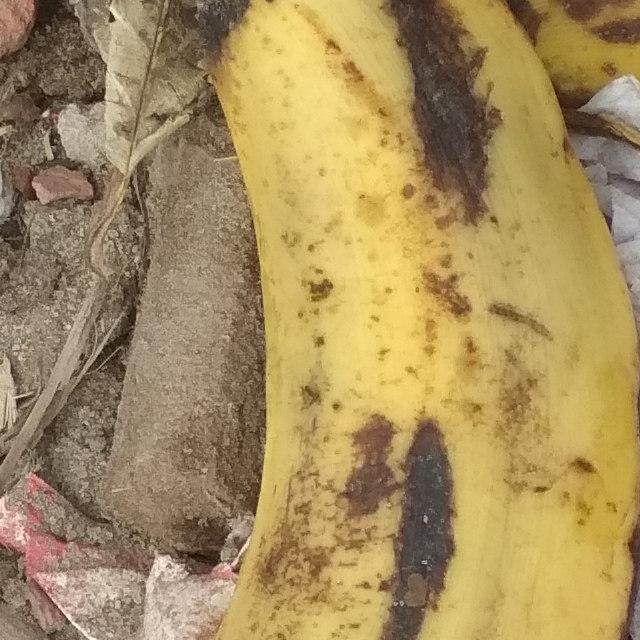food_waste: (0, 0, 640, 640), (484, 0, 640, 640)
